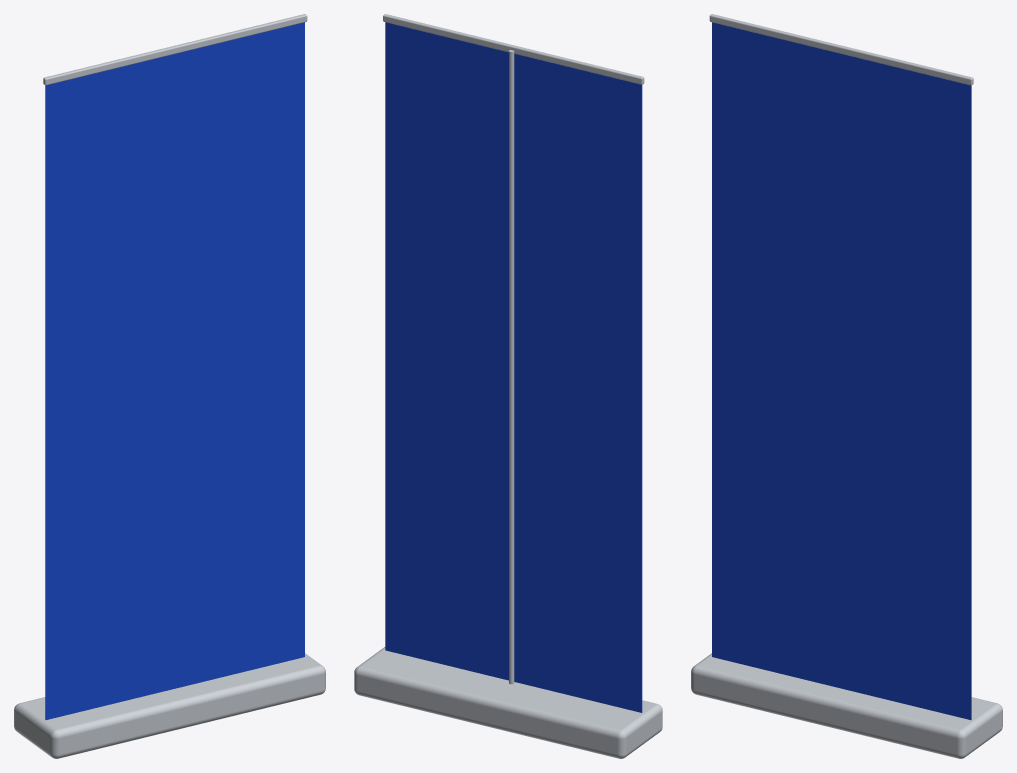
The model's file is rollup-banner.glb.
The picture shows the model from 3 angles, left to right: view 1: azimuth 30°, elevation 25°; view 2: azimuth 150°, elevation 25°; view 3: azimuth 330°, elevation 25°; orthographic projection.
Parts seen in each view (by area): view 1: Banner, Stand; view 2: Banner, Stand; view 3: Banner, Stand.
Boxes of the visible parts, bbox=[...] form: Banner: bbox=[45, 22, 304, 719]; Stand: bbox=[14, 14, 325, 758]; Banner: bbox=[385, 22, 642, 712]; Stand: bbox=[354, 14, 662, 758]; Banner: bbox=[712, 22, 971, 719]; Stand: bbox=[691, 14, 1002, 758].
Size of the model in its own units: 0.9 by 2.1 by 0.24.
